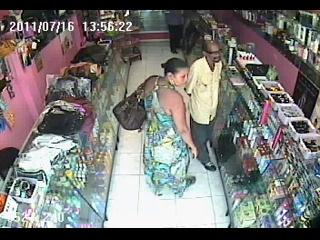Normal: (139, 57, 199, 198), (186, 39, 226, 172), (112, 75, 160, 131)
